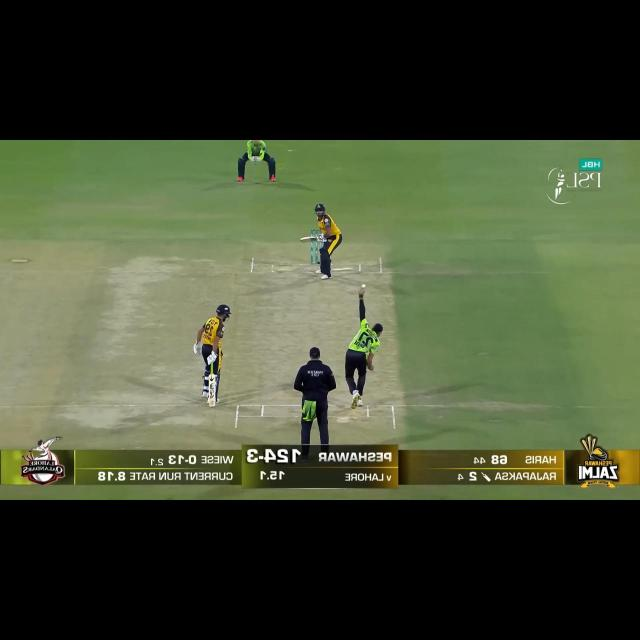bat: (208, 374, 216, 407), (300, 235, 321, 242)
toe: (208, 401, 216, 407), (299, 237, 304, 243)
